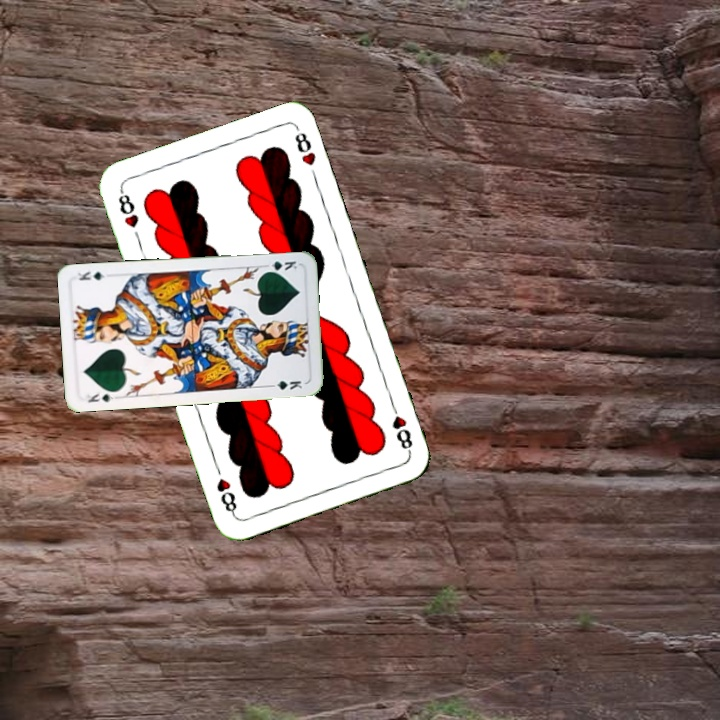GK: (261, 257, 300, 275), (83, 389, 116, 405)
H8: (386, 399, 415, 456), (114, 186, 141, 231)
